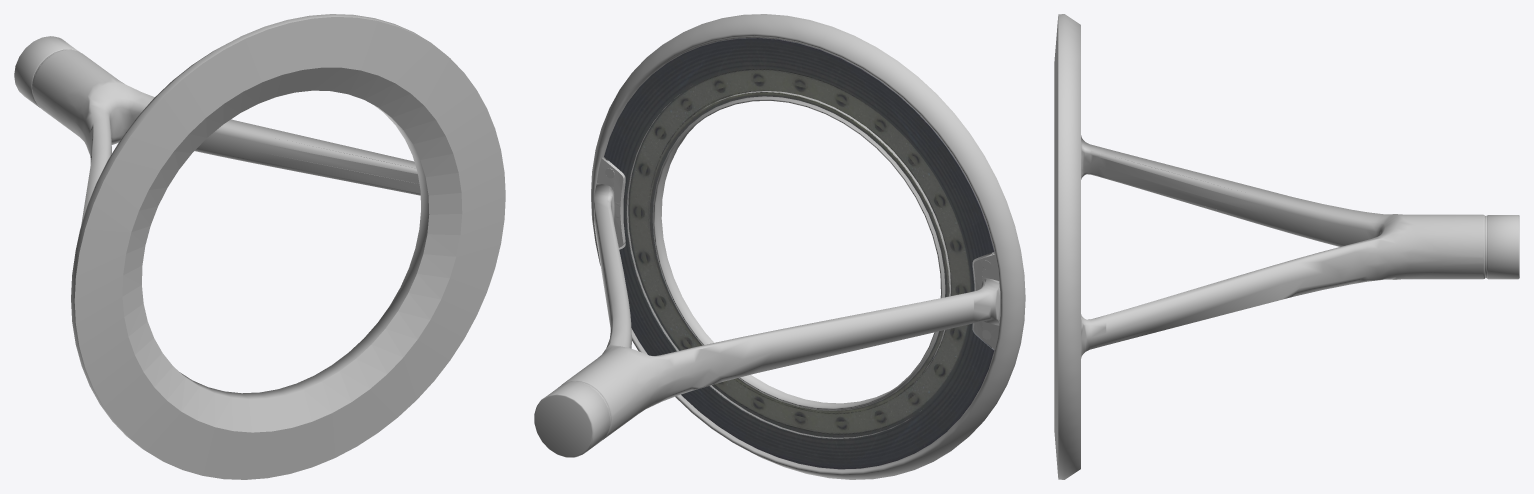
3 views of the same model, side by side, from view 1: azimuth 30°, elevation 25°; view 2: azimuth 150°, elevation 25°; view 3: azimuth 270°, elevation 25° (orthographic). The views are drawn at different scales.
Visible parts, largest first — view 1: Siteco_DL_20_DL_20_LED; view 2: Siteco_DL_20_DL_20_LED; view 3: Siteco_DL_20_DL_20_LED.
Part boxes in pixels (left/top/right/bottom): Siteco_DL_20_DL_20_LED: left=14, top=14, right=505, bottom=479; Siteco_DL_20_DL_20_LED: left=534, top=14, right=1025, bottom=479; Siteco_DL_20_DL_20_LED: left=1054, top=14, right=1519, bottom=479.
Size of the model in its own units: 0.6904 by 0.6904 by 0.6894.
